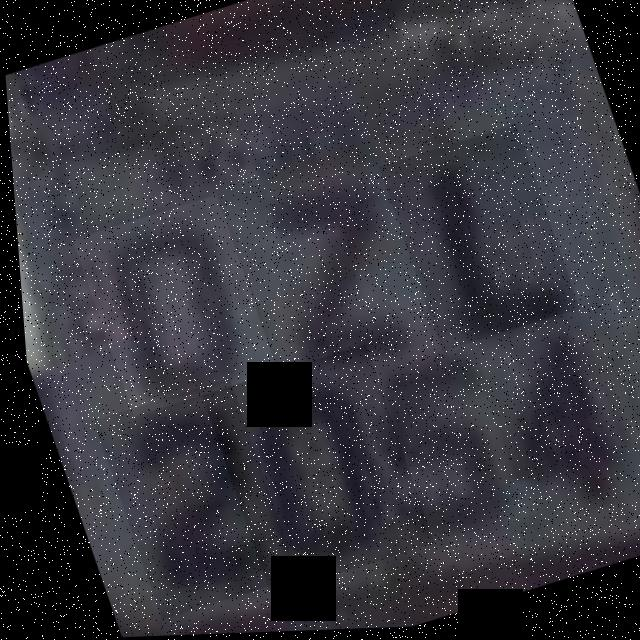0: (193, 345, 428, 597)
2: (84, 378, 291, 621)
4: (458, 297, 640, 535)
5: (332, 330, 530, 558)
J: (373, 126, 576, 355)
O: (66, 194, 274, 418)
Z: (219, 161, 428, 385)
